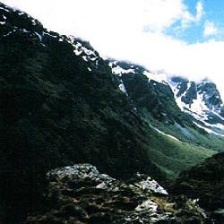neutral: (5, 4, 223, 224)
